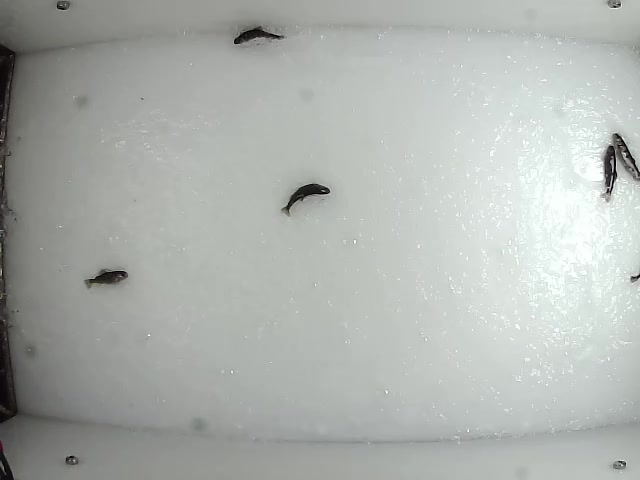fish: (279, 181, 330, 219), (610, 130, 640, 184), (597, 143, 619, 204), (231, 24, 288, 46), (83, 264, 131, 290)
